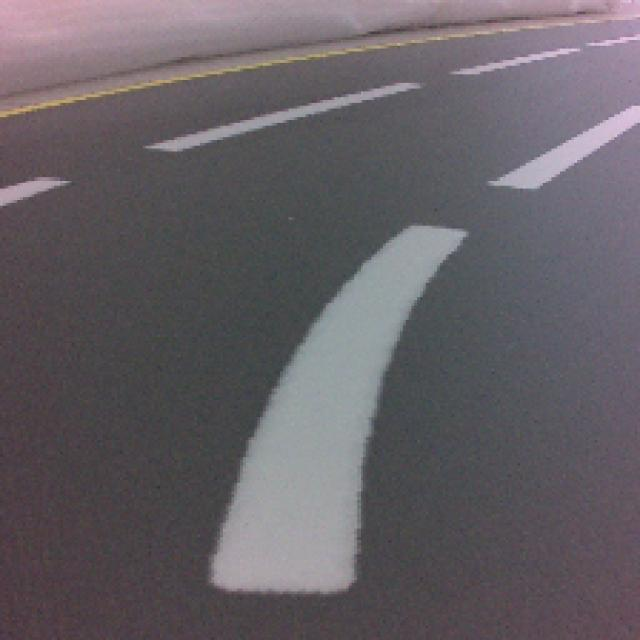Guard rail: (216, 228, 465, 584)
